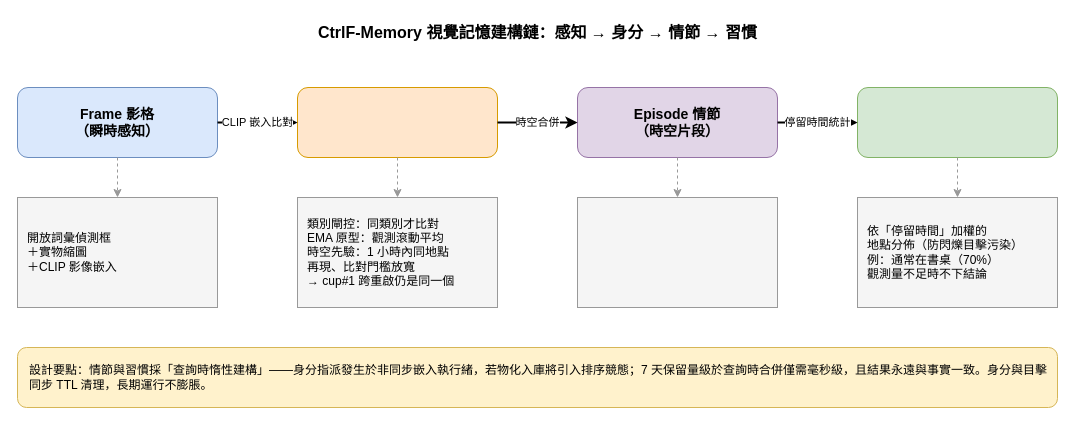
The diagram is 1075 pixels wide and 425 high, and some of its shapes have lost their labels. Each missing label, with the box of its shape:
Habit 習慣 （統計結論）: (856, 86, 1058, 158)
Object 物件 （持續身分）: (296, 86, 498, 158)
同一身分＋同一地點＋ 目擊間隔＜30 分鐘 → 合併為一段情節 例：09:12–11:40 書桌 14:30–15:05 沙發: (576, 196, 778, 308)
